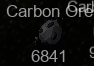Carbon: (6, 4, 93, 62)
